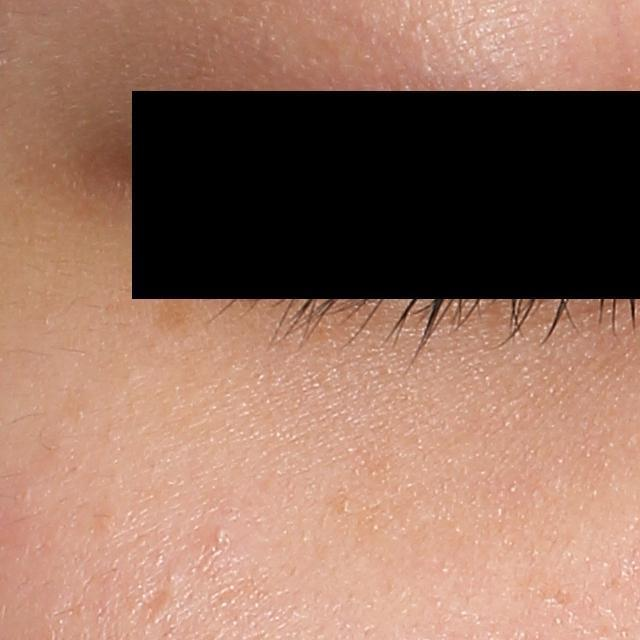atrophic_scar: (133, 585, 176, 625)
melasma: (145, 289, 201, 333)
